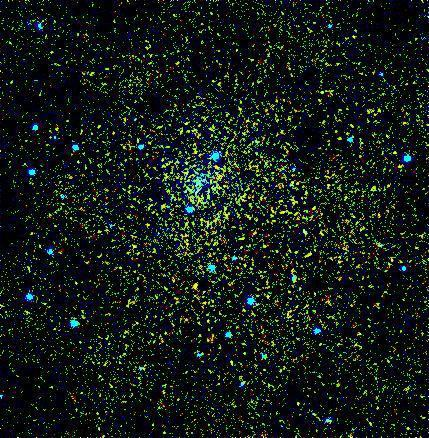star: (184, 272, 214, 302)
